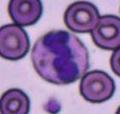N: (32, 31, 89, 84)
